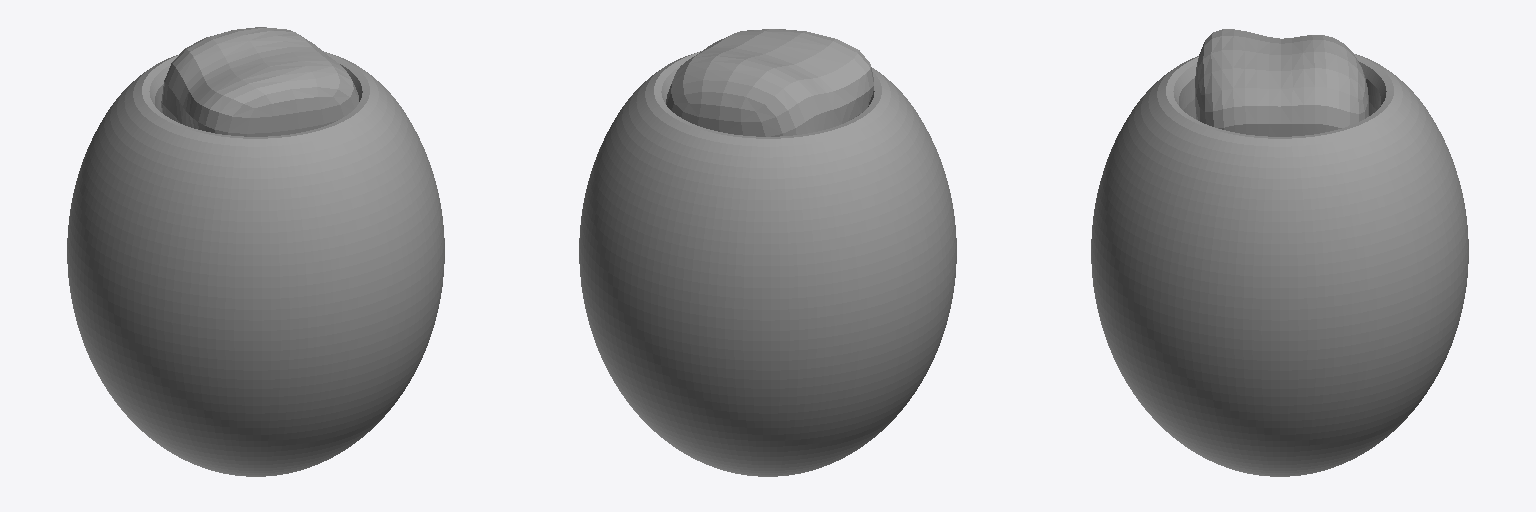
The model's file is Olive.obj.
3 views of the same model, side by side, from view 1: azimuth 30°, elevation 25°; view 2: azimuth 150°, elevation 25°; view 3: azimuth 270°, elevation 25° (orthographic).
Parts seen in each view (by area): view 1: Sphere, Cube_Cube.001; view 2: Sphere, Cube_Cube.001; view 3: Sphere, Cube_Cube.001.
Boxes of the visible parts, box(x1,y1,x2,y2) form: Sphere: box(67, 51, 444, 476); Cube_Cube.001: box(161, 27, 358, 136); Sphere: box(579, 51, 956, 476); Cube_Cube.001: box(666, 29, 873, 136); Sphere: box(1091, 54, 1468, 476); Cube_Cube.001: box(1195, 29, 1368, 136).
Bounding box in the file's own units: 1.98 × 2.39 × 1.98.